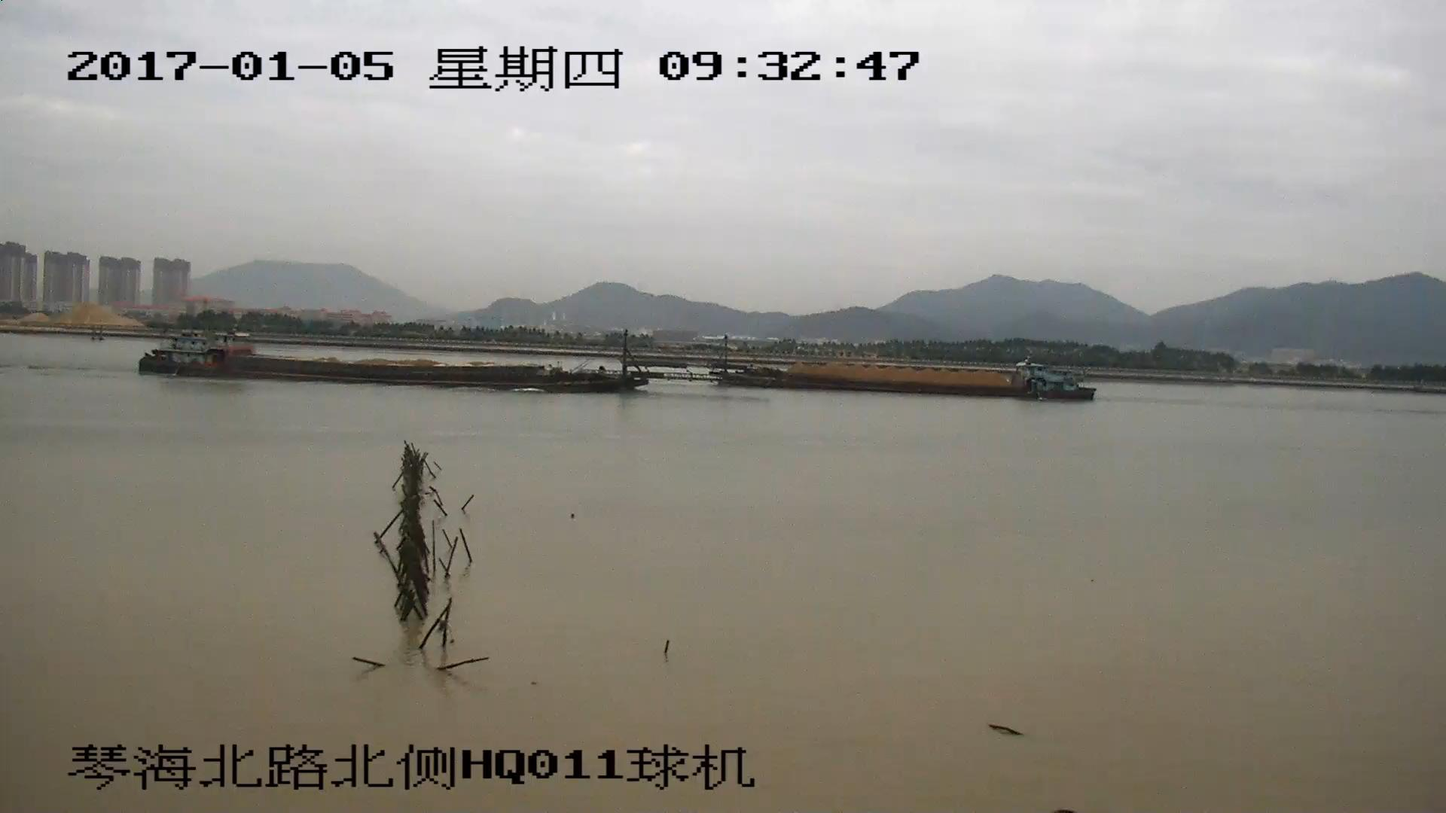ore carrier: (136, 329, 650, 388), (653, 336, 1096, 403)
